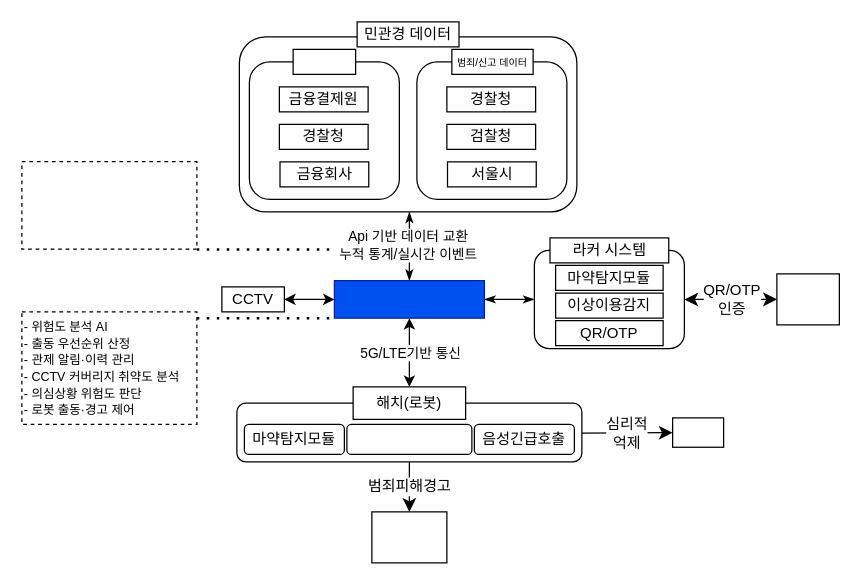
Some shapes in this 861 by 585 pixel diagram are drawn without their labels. The box of each missing label's shape, as (x1, y1, x2, y2) in pixels:
- AI 플랫폼과 신고 내용 소통 - 상황 인지 시 출동 - 경찰, 서울교통공사 등 기관 연계 - AI 학습용 데이터 제공: (21, 160, 197, 249)
ASAP: (292, 48, 356, 74)
HaetAI(해태) 플랫폼: (333, 279, 484, 318)
광학센서(카메라): (346, 423, 472, 454)
범죄자: (671, 417, 724, 447)
사용자: (776, 273, 839, 325)
시민: (371, 511, 447, 563)
